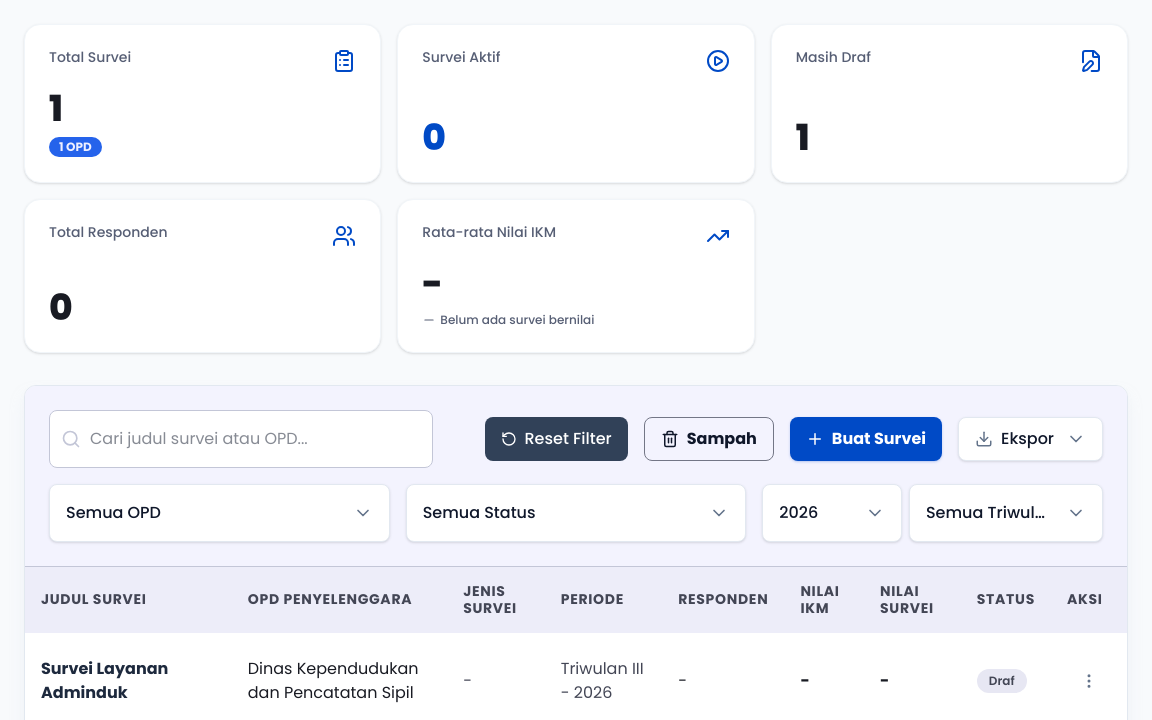
AdminKabSurveysPage — gerbang Salin › Batal tidak memanggil apa pun
Expected: the text "Survei Layanan Adminduk" is shown, x1=41 y1=657 x2=168 y2=704
Click the button named "aksi untuk".
click(1089, 681)  # box x1=1067 y1=659 x2=1111 y2=703
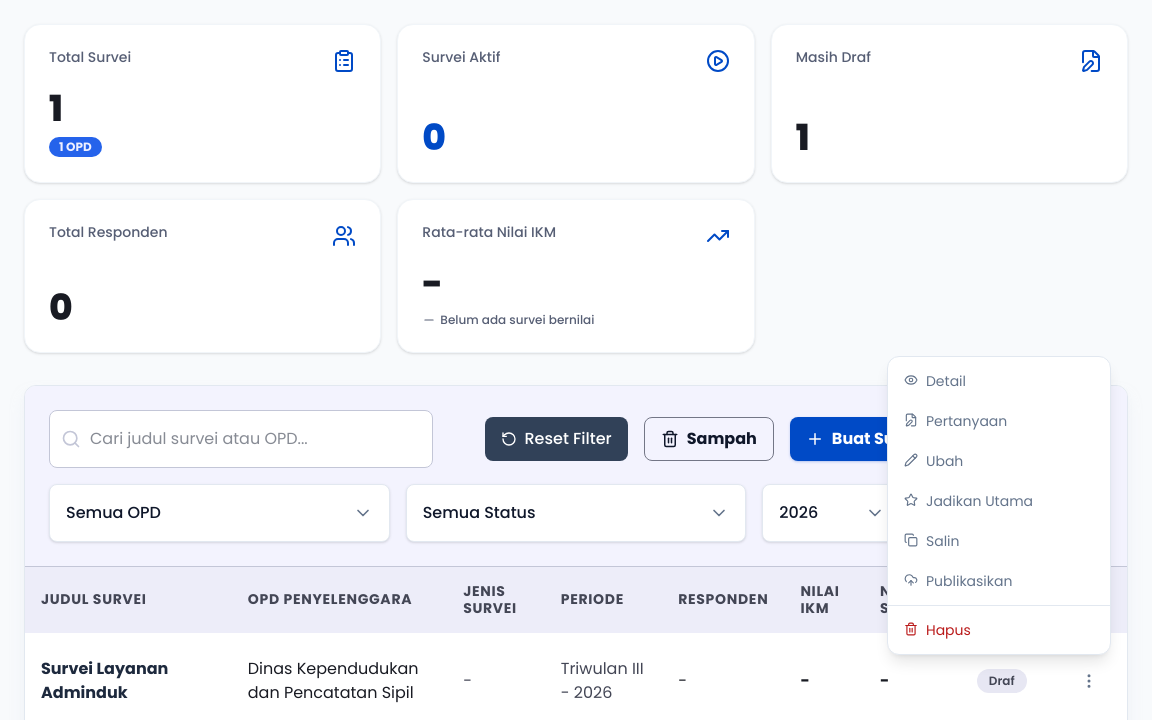
Click the menu item "Salin".
click(999, 541)  # box x1=888 y1=521 x2=1110 y2=561
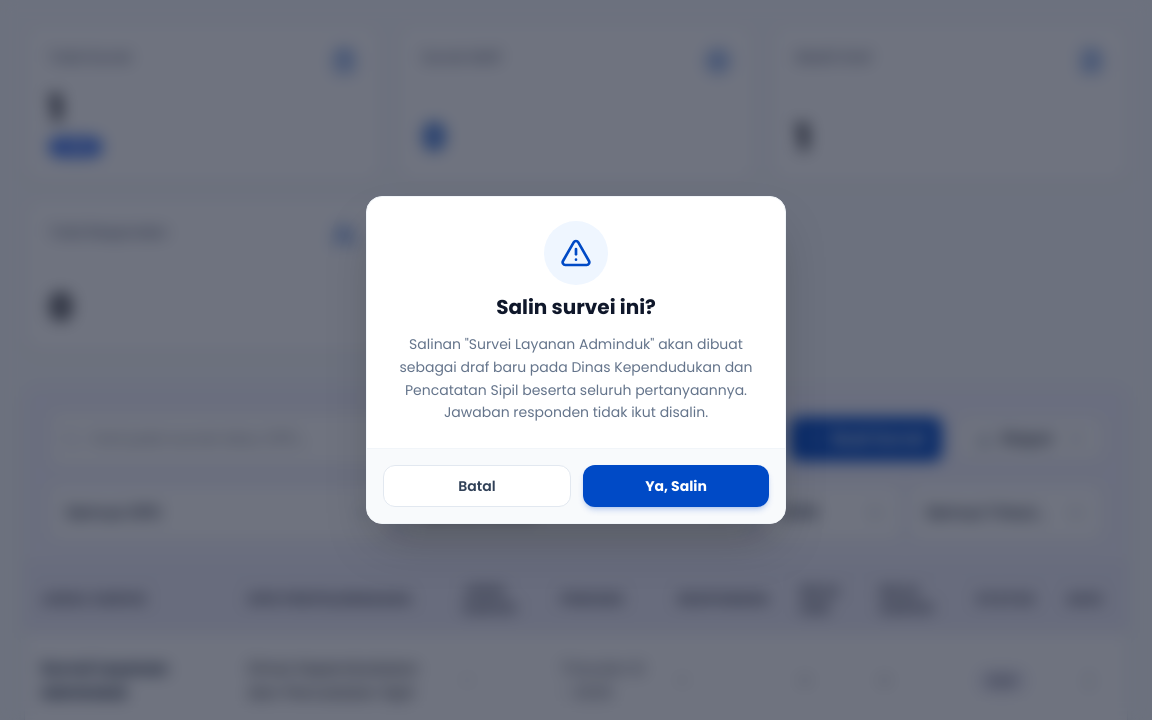
Click the button "Batal".
click(477, 486)  # box x1=383 y1=465 x2=571 y2=507
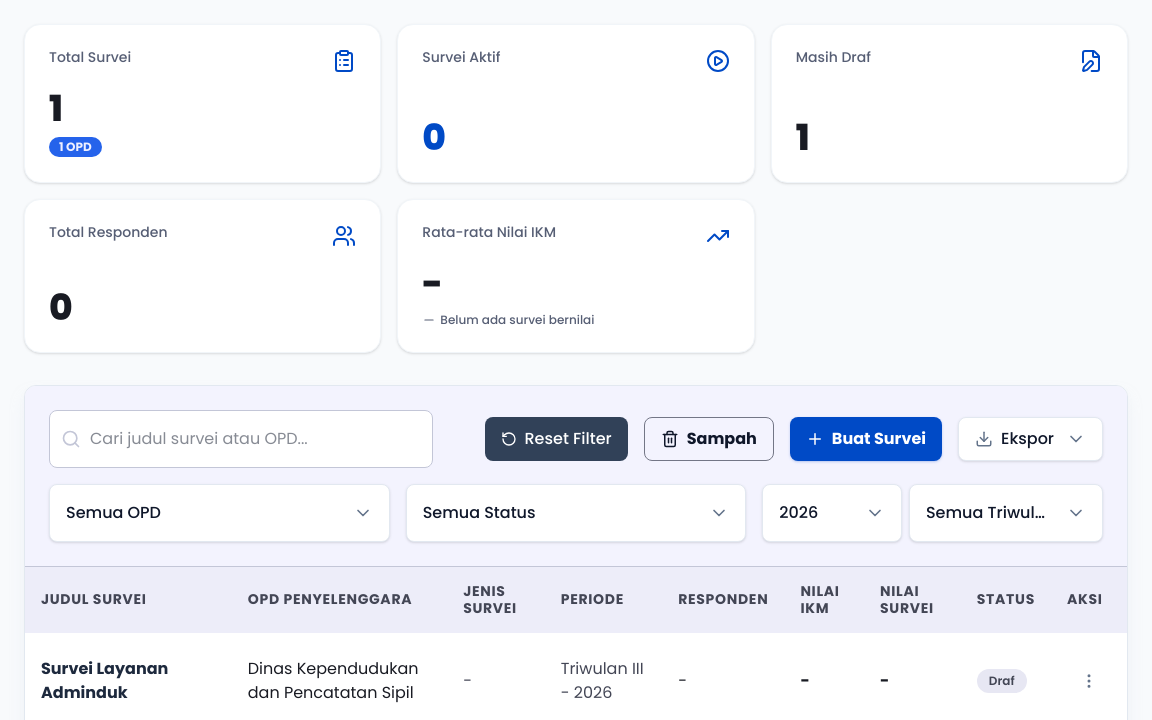
Expected: the heading "Salin survei ini?" is gone
